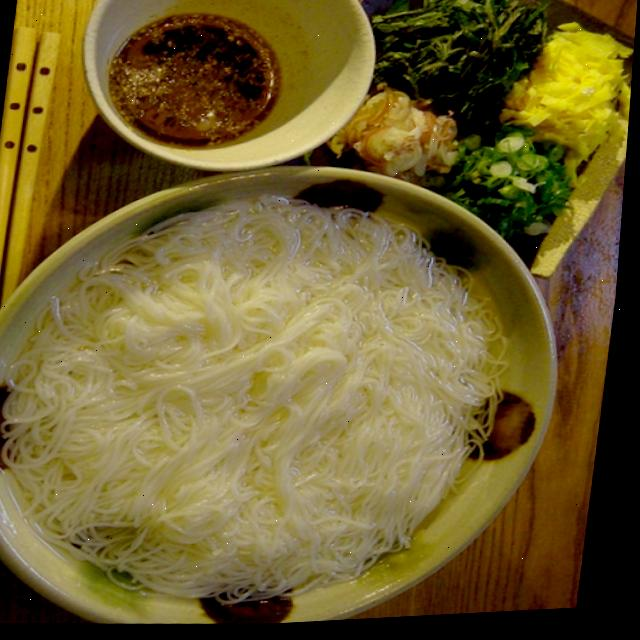面条主食: (0, 123, 599, 640)
